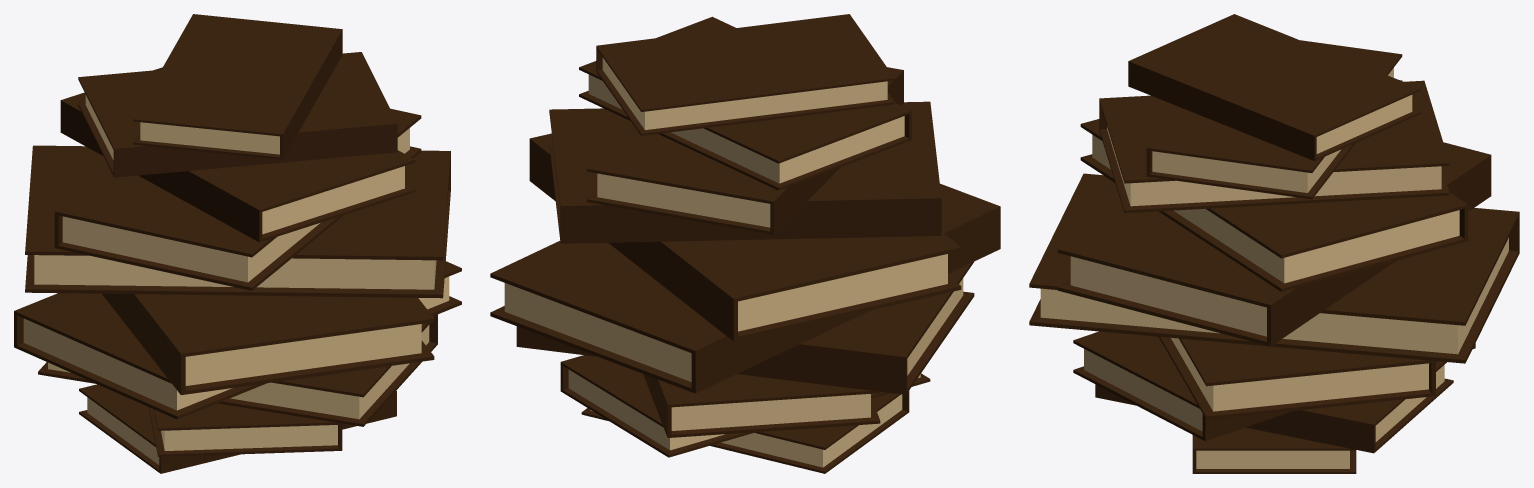
The model's file is BookBall.fbx.
3 renders of one model, left to right at view 1: azimuth 30°, elevation 25°; view 2: azimuth 150°, elevation 25°; view 3: azimuth 270°, elevation 25°, orthographic. The views are drawn at different scales.
Parts seen in each view (by area): view 1: BookBall; view 2: BookBall; view 3: BookBall.
Boxes of the visible parts, left/top/right/bottom form: BookBall: left=14, top=14, right=461, bottom=473; BookBall: left=490, top=14, right=1000, bottom=473; BookBall: left=1029, top=14, right=1519, bottom=473.
Size of the model in its own units: 380 by 293 by 382.
